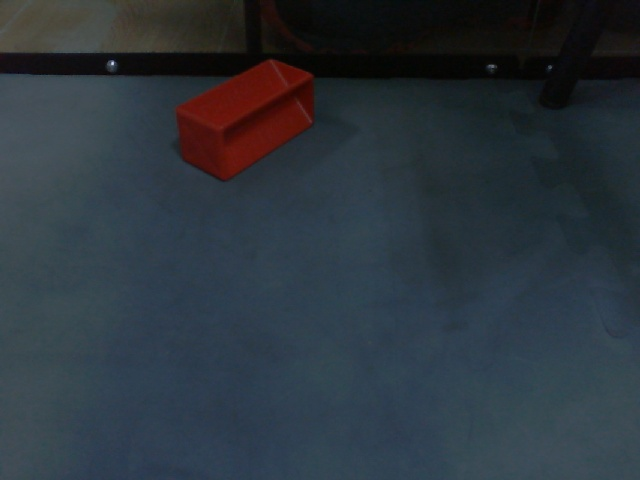RedSample: (174, 55, 318, 187)
